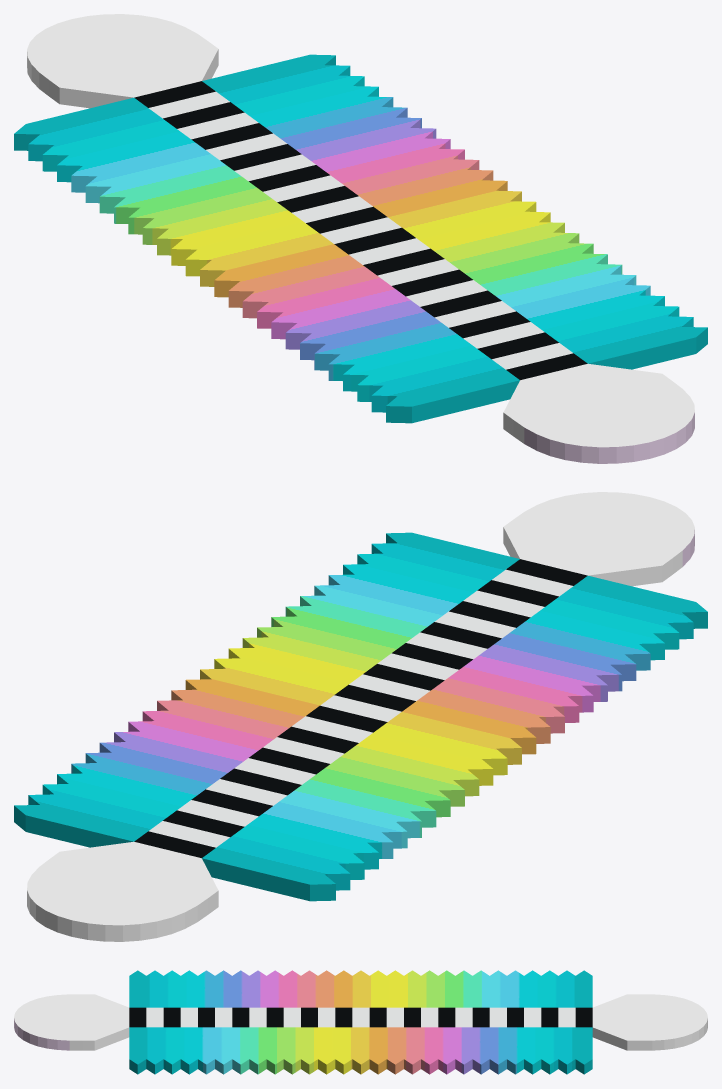
File: AwardsPlatform.fbx
3 renders of one model, top to bottom at view 1: azimuth 30°, elevation 25°; view 2: azimuth 150°, elevation 25°; view 3: azimuth 270°, elevation 25°, orthographic. The views are drawn at different scales.
Parts seen in each view (by area): view 1: Cube.006, Cube.005; view 2: Cube.006, Cube.005; view 3: Cube.006, Cube.005.
Part boxes in pixels (box(x1,y1,x2,y2)): Cube.006: box(14, 54, 707, 423); Cube.005: box(27, 14, 694, 463); Cube.006: box(14, 532, 707, 901); Cube.005: box(27, 492, 694, 941); Cube.006: box(129, 970, 592, 1074); Cube.005: box(14, 994, 707, 1050).
Size of the model in its own units: 507 by 25 by 1574.
